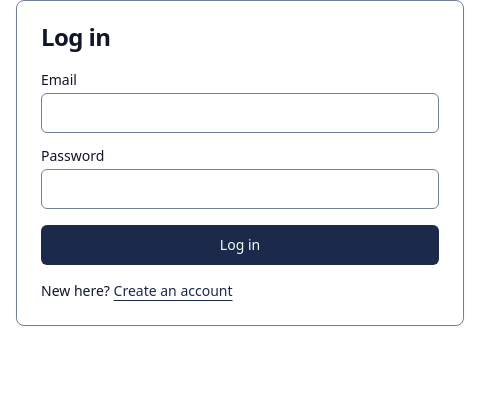
Test: SPEC-010 Story-002 auth restyle › SPEC-010 T-022 /login uses Card, Label, Input and Button; errors sit beside the field with icon, aria-invalid and aria-describedby, and focus goes to the first
Click the button. click: {"x": 240, "y": 245}
box: [41,225,439,265]
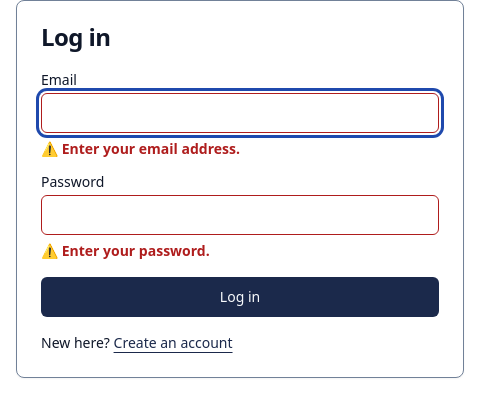
Now the text "⚠" next to "Enter your email address." is shown, box [41,139,62,158]
